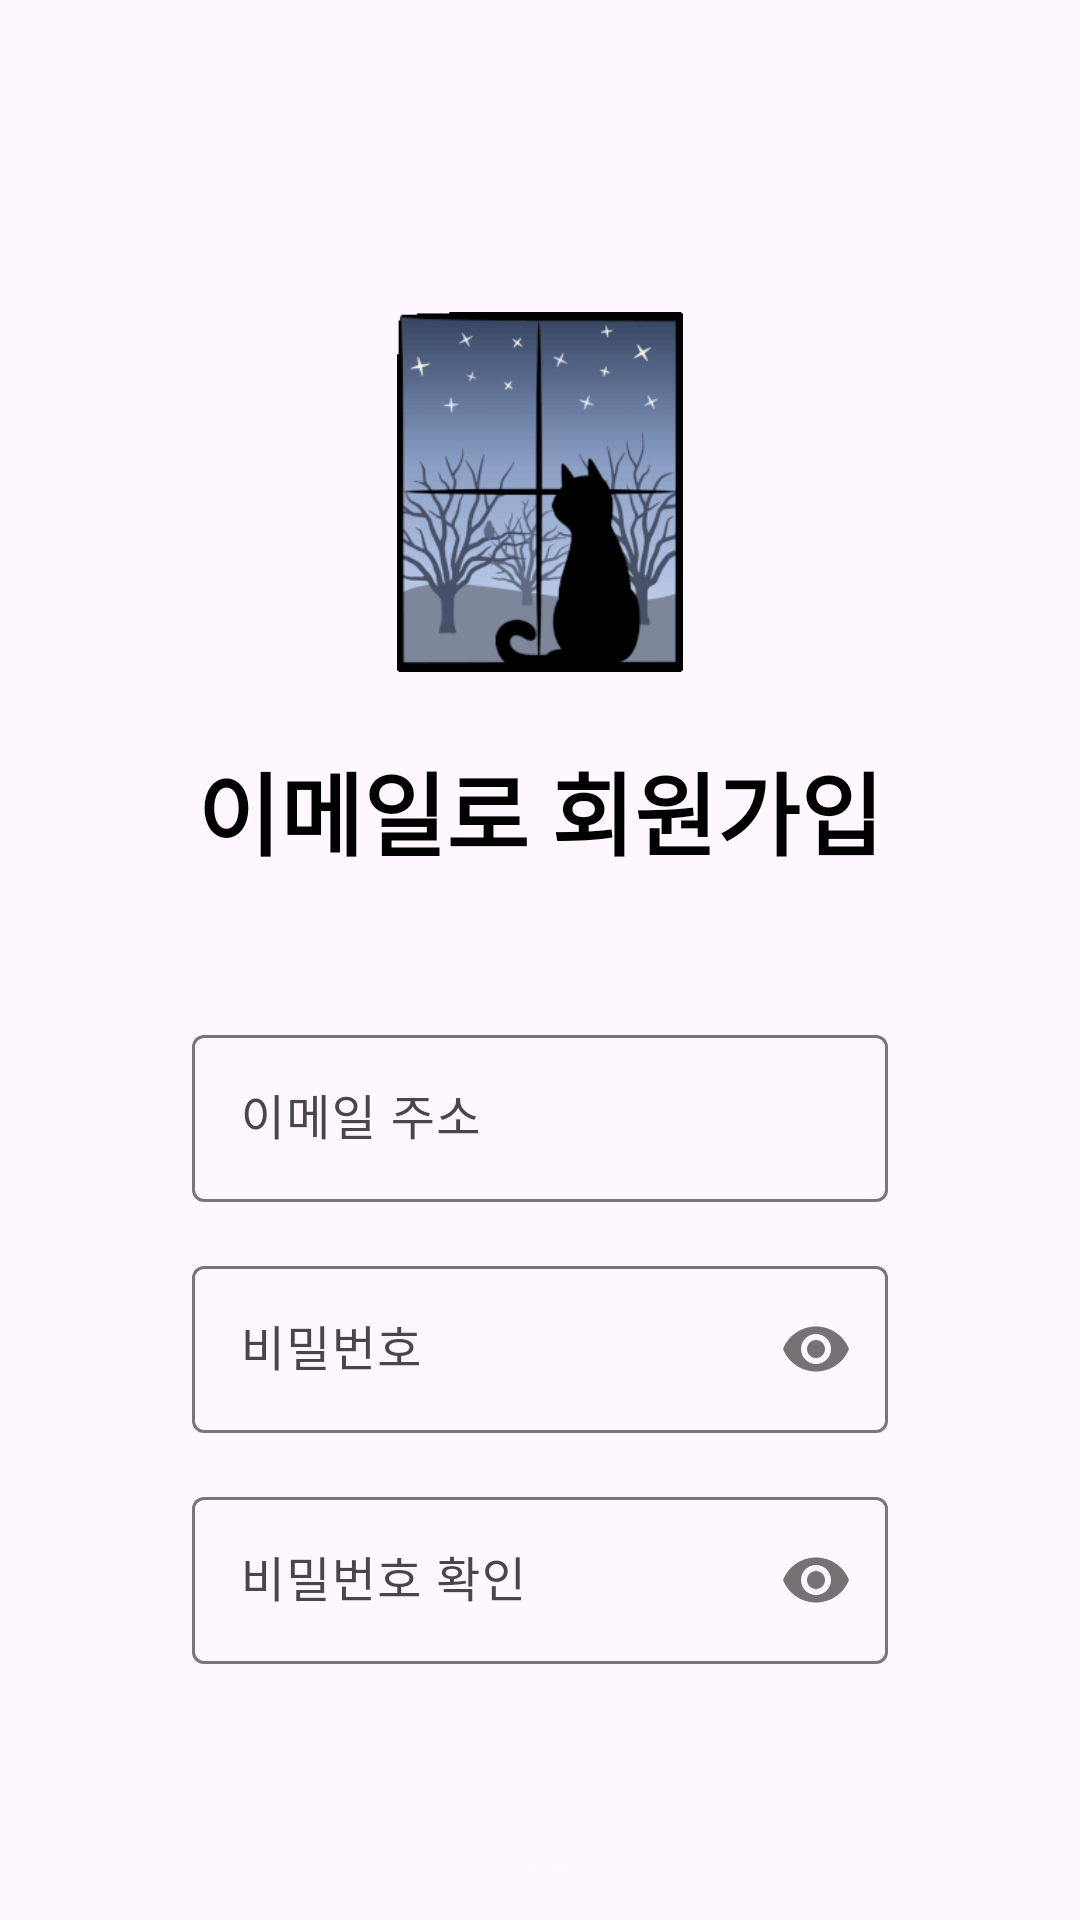

Screen size 1080w x 1920h. Icon name, then its box in pixels as (x1, y1, x2, y2):
cat: (397, 312, 683, 672)
